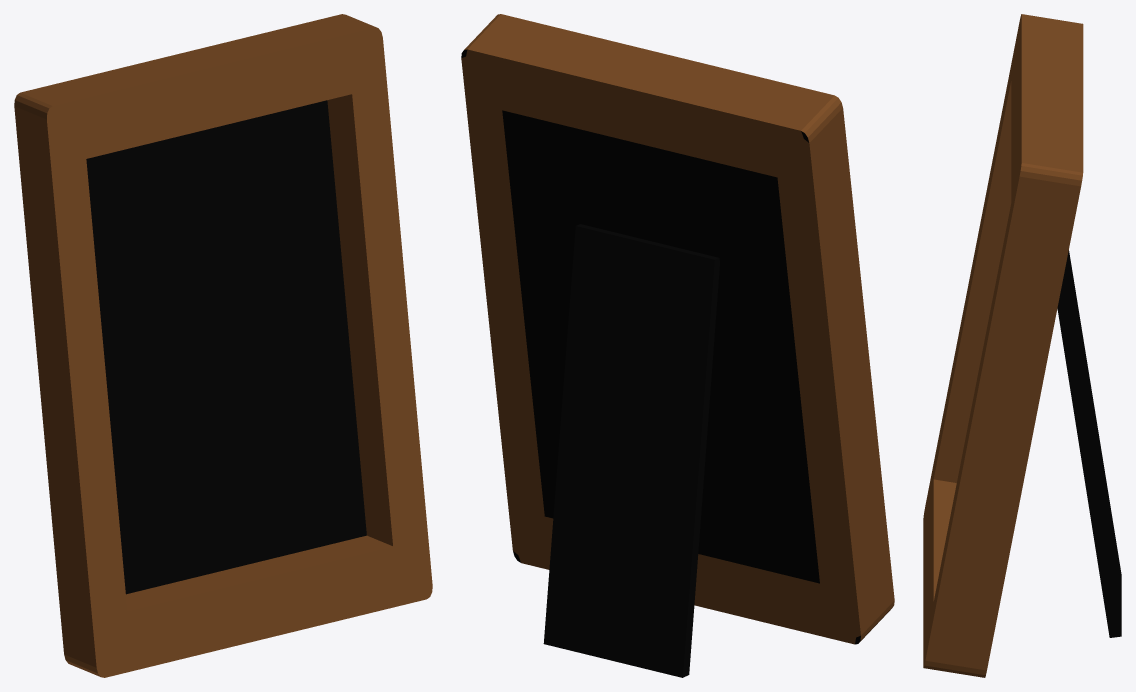
The model's file is photo_frame_wooden.fbx.
The picture shows the model from 3 angles, left to right: view 1: azimuth 30°, elevation 25°; view 2: azimuth 150°, elevation 25°; view 3: azimuth 270°, elevation 25°; orthographic projection. The views are drawn at different scales.
Parts seen in each view (by area): view 1: PhotoFrame_wooden; view 2: PhotoFrame_wooden; view 3: PhotoFrame_wooden.
Boxes of the visible parts, x1,y1,x2,y2 form: PhotoFrame_wooden: [14, 14, 432, 677]; PhotoFrame_wooden: [461, 14, 894, 677]; PhotoFrame_wooden: [923, 14, 1121, 677].
Size of the model in its own units: 53.25 by 83.01 by 28.76.
